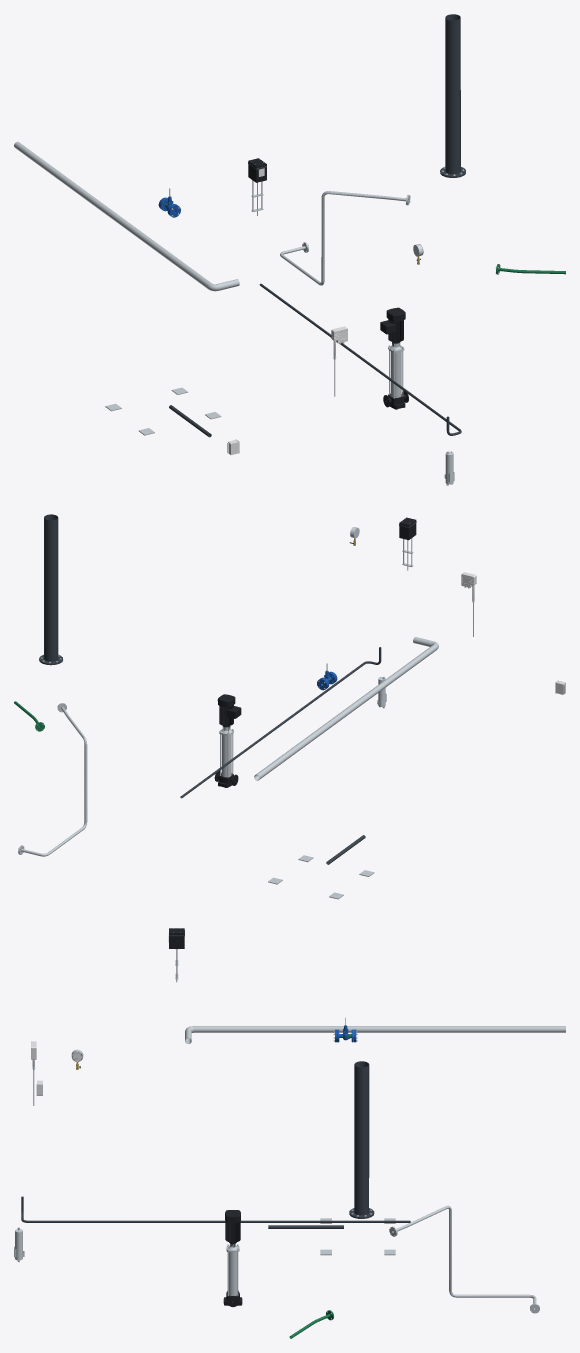
3 renders of one model, top to bottom at view 1: azimuth 30°, elevation 25°; view 2: azimuth 150°, elevation 25°; view 3: azimuth 270°, elevation 25°, orthographic. The views are drawn at different scales.
Parts seen in each view (by area): view 1: bdv_vent / dark, safety_vent_2 / steel, trap_gap_to_bdv / steel, tds_common / dark, pump_2 CAD solid 15; view 2: bdv_vent / dark, safety_vent_2 / steel, trap_gap_to_bdv / steel, tds_common / dark, pump_2 CAD solid 15; view 3: safety_vent_2 / steel, bdv_vent / dark, tds_common / dark, trap_gap_to_bdv / steel, pump_2 CAD solid 15.
Boxes of the visible parts, box(x1,y1,x2,y2) form: bdv_vent / dark: box(440, 14, 465, 177); safety_vent_2 / steel: box(14, 141, 239, 291); trap_gap_to_bdv / steel: box(280, 191, 410, 285); tds_common / dark: box(259, 283, 461, 435); pump_2 CAD solid 15: box(380, 307, 405, 342); bdv_vent / dark: box(39, 514, 62, 665); safety_vent_2 / steel: box(254, 637, 438, 780); trap_gap_to_bdv / steel: box(18, 703, 87, 856); tds_common / dark: box(180, 647, 381, 798); pump_2 CAD solid 15: box(217, 694, 241, 726); safety_vent_2 / steel: box(185, 1026, 565, 1043); bdv_vent / dark: box(349, 1061, 374, 1218); tds_common / dark: box(21, 1196, 410, 1222); trap_gap_to_bdv / steel: box(389, 1205, 539, 1313); pump_2 CAD solid 15: box(225, 1210, 240, 1242).
Bounding box in the file's own units: 5.86 × 3.85 × 6.22.
